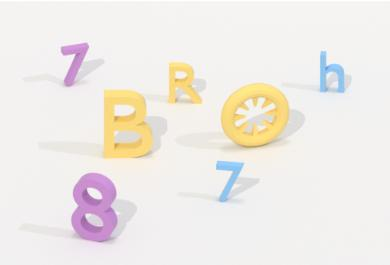0-TronLo: (217, 80, 291, 150)
7: (57, 40, 91, 91), (214, 157, 246, 204)
8: (70, 169, 122, 244)
B: (102, 86, 157, 161)
R: (167, 60, 203, 109)
h: (317, 47, 348, 97)
